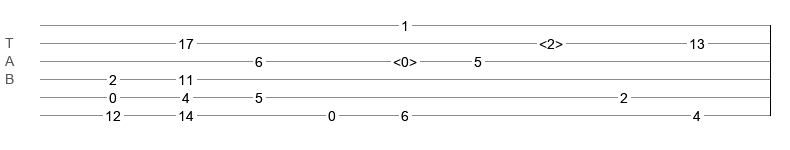0: (109, 90, 117, 100), (328, 108, 336, 118)
1: (401, 18, 409, 28)
11: (178, 72, 194, 82)
12: (105, 108, 121, 118)
13: (689, 36, 705, 46)
14: (178, 108, 194, 118)
17: (178, 36, 194, 46)
2: (109, 72, 117, 82), (620, 90, 628, 100)
4: (182, 90, 190, 100), (693, 108, 701, 118)
5: (255, 90, 263, 100), (474, 54, 482, 64)
6: (255, 54, 263, 64), (401, 108, 409, 118)
harmonic: (393, 54, 417, 64), (539, 36, 563, 46)
